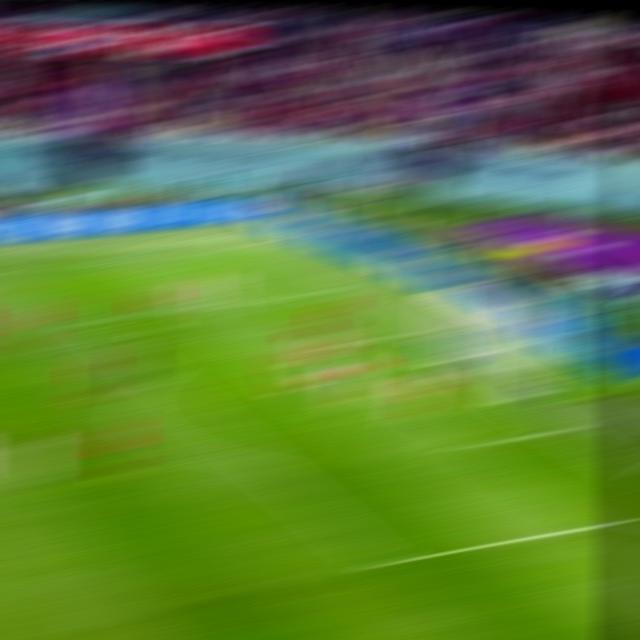bigarea_bottom_inner: (360, 550, 402, 577)
bigarea_top_inner: (68, 314, 105, 328)
bigarea_top_outter: (303, 287, 334, 300)
bottom_arc_area_intersection: (245, 455, 279, 473)
corner: (222, 247, 258, 252)
smallarea_bottom_inner: (450, 437, 491, 455)
smallarea_bottom_outter: (544, 424, 576, 439)
smallarea_top_outter: (379, 332, 412, 341)
top_arc_area_intersection: (142, 371, 175, 385)
